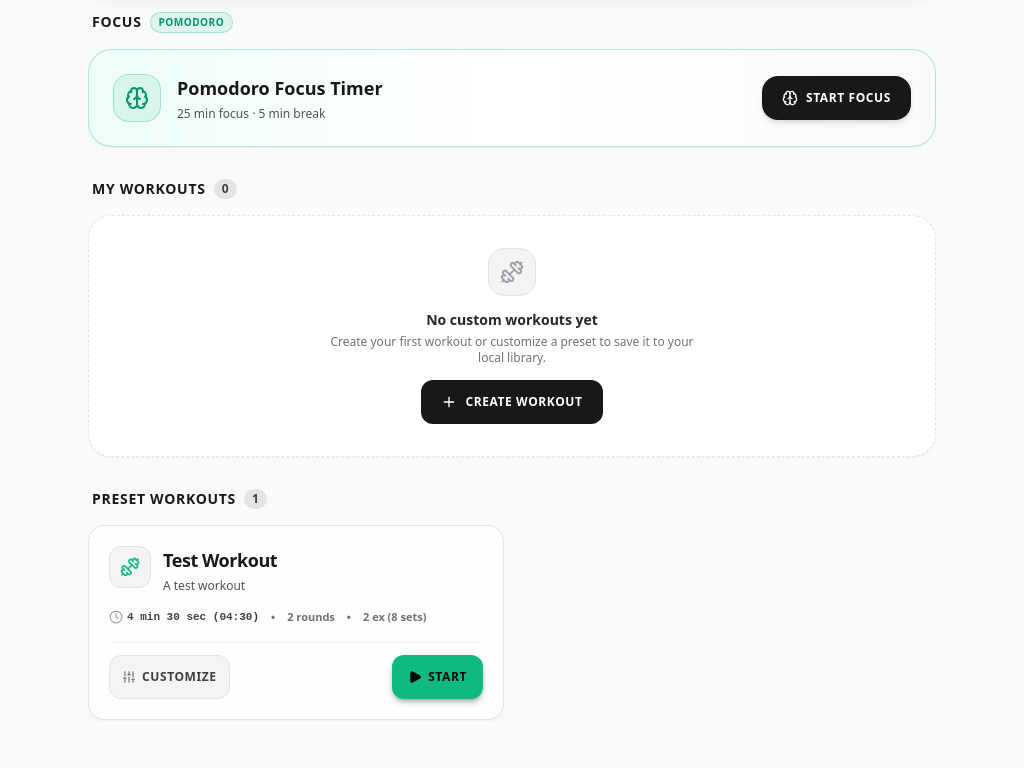
Module 4 — Workout Player Integration Tests › 3. Start enters active workout screen
This screenshot has width=1024, height=768.
(page scrolled)
Click the button with aria-label "start workout". click: click(438, 676)
box: x1=392 y1=654 x2=483 y2=698
(page scrolled)
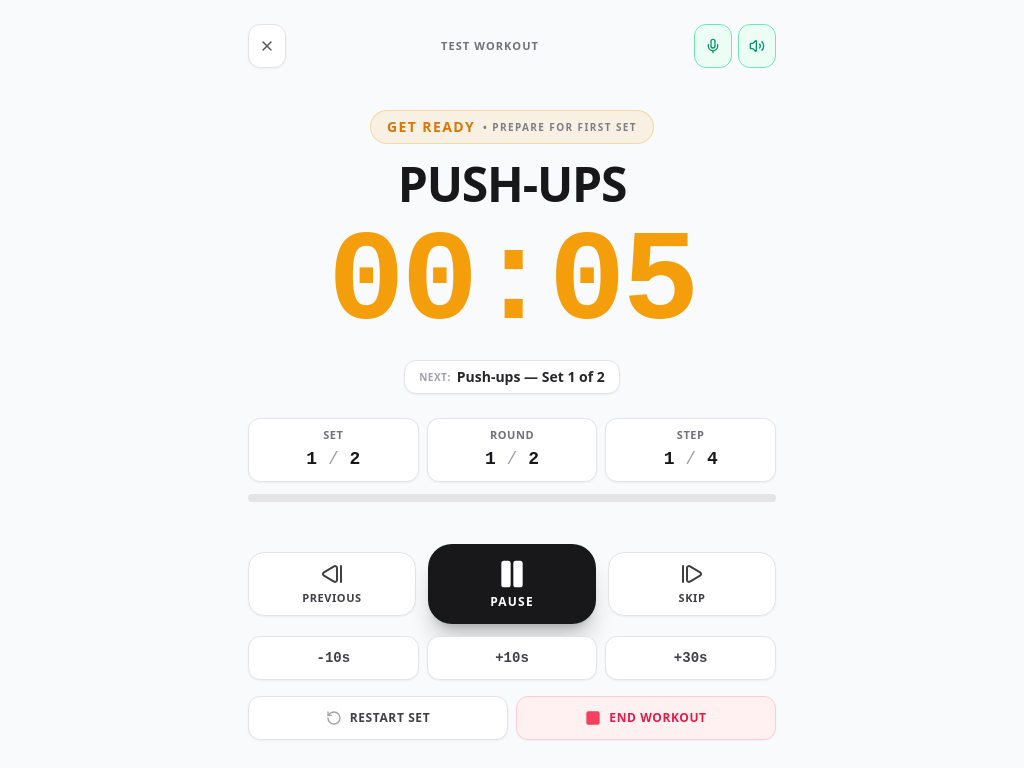
Expected: the text "GET READY" is shown, x1=387 y1=117 x2=475 y2=136
Expected: the text "00:05" is shown, x1=328 y1=211 x2=696 y2=356
Expected: the button with aria-label "pause workout" is shown, x1=428 y1=544 x2=596 y2=624
